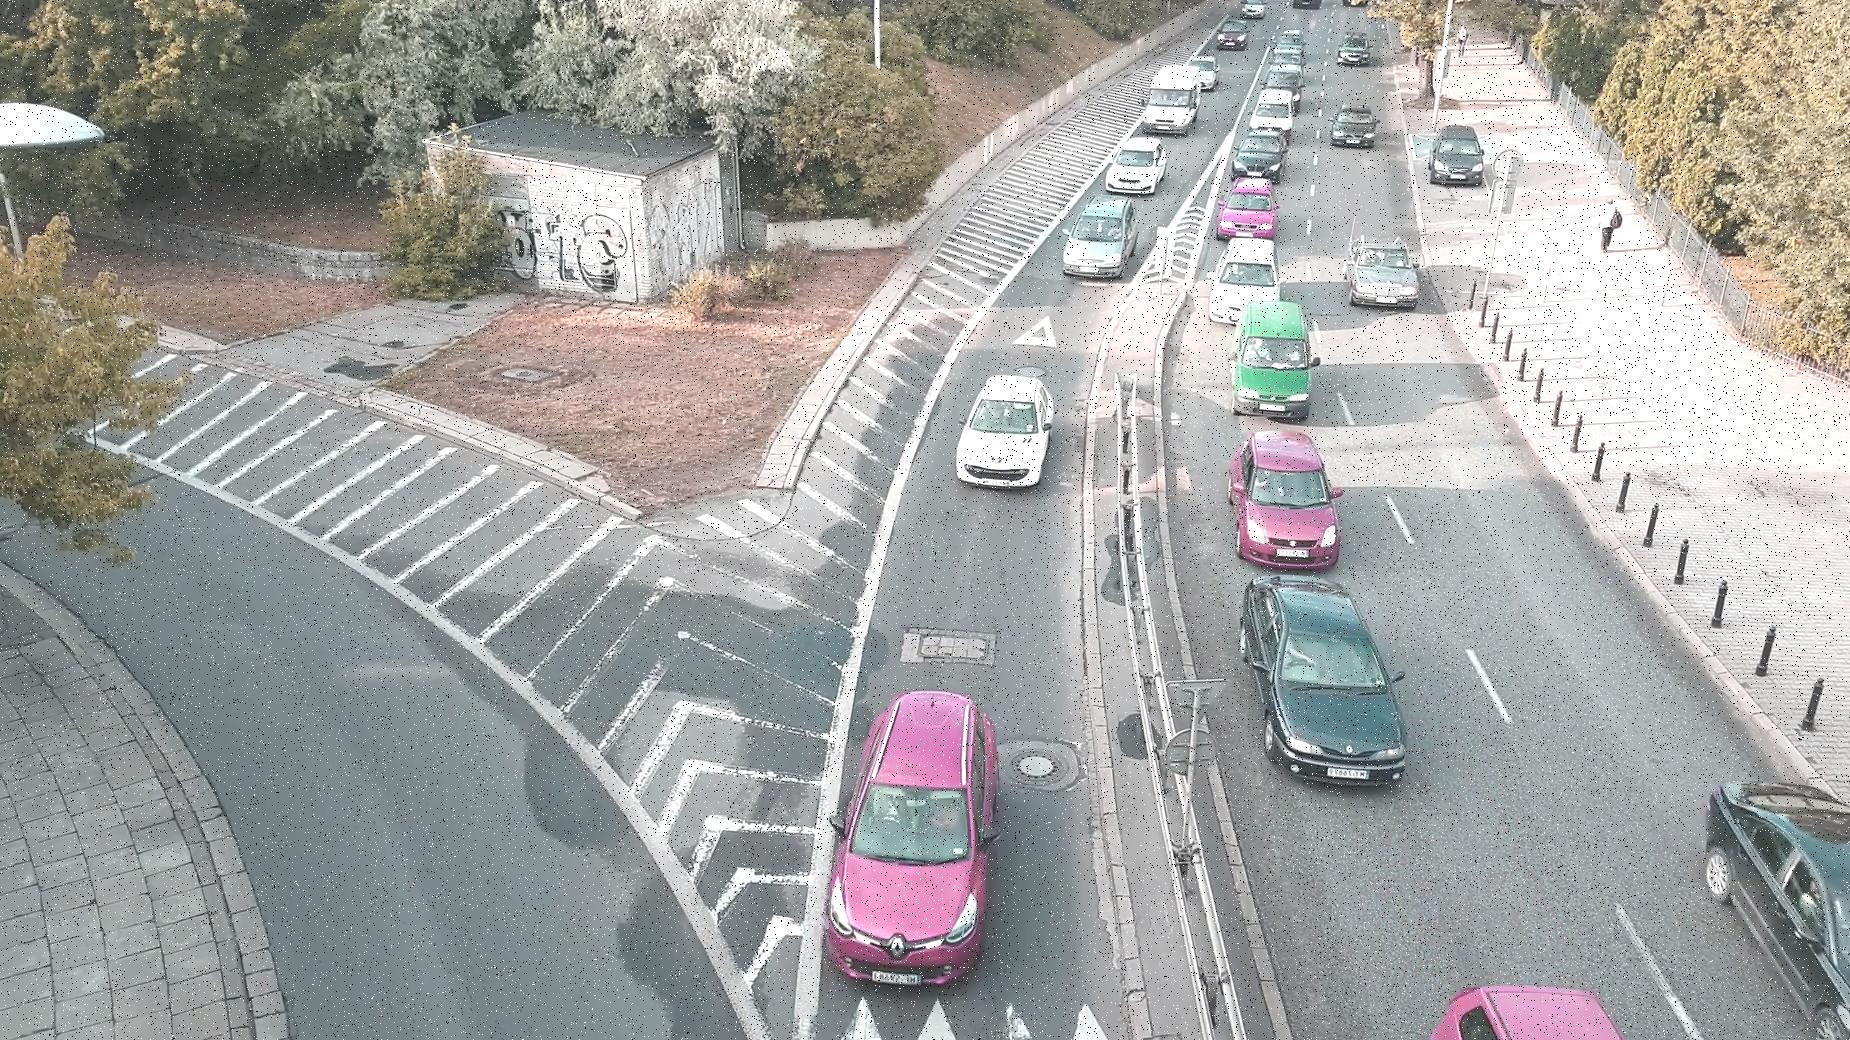car: (804, 688, 1020, 1003), (1229, 564, 1424, 789), (1699, 750, 1850, 1040), (1226, 423, 1346, 563), (955, 367, 1060, 495), (1412, 984, 1643, 1040), (1229, 288, 1318, 423), (1056, 193, 1141, 282), (1202, 231, 1286, 314), (1339, 231, 1419, 310), (1212, 173, 1283, 241), (1144, 58, 1205, 135), (1423, 119, 1489, 187), (1107, 128, 1171, 197), (1230, 131, 1293, 183), (1330, 100, 1376, 147), (1253, 86, 1297, 135), (1216, 14, 1253, 53), (1339, 30, 1372, 63), (1269, 62, 1304, 84), (1273, 29, 1306, 51)
